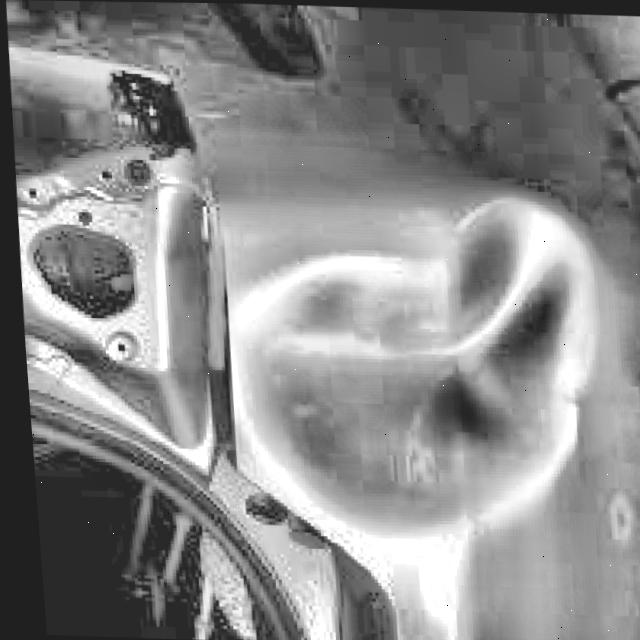bumper_dent: (225, 180, 617, 537)
